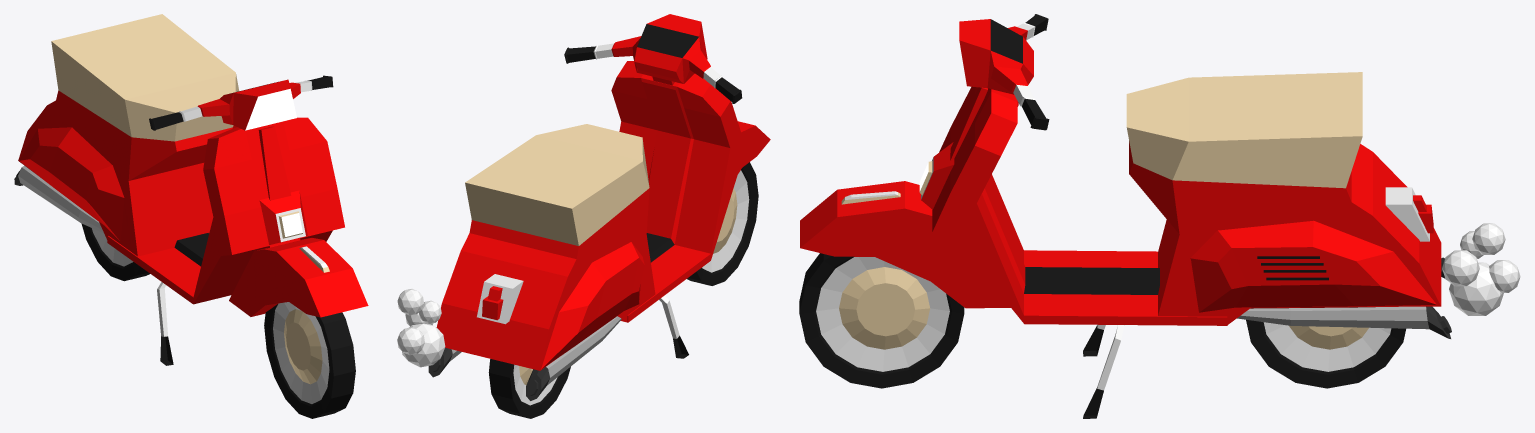
3 renders of one model, left to right at view 1: azimuth 30°, elevation 25°; view 2: azimuth 150°, elevation 25°; view 3: azimuth 270°, elevation 25°, orthographic. The views are drawn at different scales.
Visible parts, largest first — view 1: vespa, Cylinder.001; view 2: vespa, Cylinder.001, Icosphere, Icosphere.004, Icosphere.001, Icosphere.003; view 3: vespa, Cylinder.001, Icosphere, Icosphere.002, Icosphere.001, Cube, Icosphere.004.
Part boxes in pixels (x1=…): vespa: x1=18, y1=14, x2=368, y2=418; Cylinder.001: x1=14, y1=165, x2=103, y2=232; vespa: x1=436, y1=14, x2=770, y2=418; Cylinder.001: x1=428, y1=316, x2=621, y2=400; Icosphere: x1=402, y1=323, x2=445, y2=367; Icosphere.004: x1=397, y1=327, x2=424, y2=355; Icosphere.001: x1=397, y1=288, x2=423, y2=315; Icosphere.003: x1=419, y1=300, x2=441, y2=323; vespa: x1=799, y1=14, x2=1441, y2=418; Cylinder.001: x1=1237, y1=257, x2=1451, y2=338; Icosphere: x1=1449, y1=262, x2=1503, y2=315; Icosphere.002: x1=1442, y1=250, x2=1479, y2=286; Icosphere.001: x1=1472, y1=223, x2=1505, y2=254; Cube: x1=1257, y1=256, x2=1328, y2=280; Icosphere.004: x1=1489, y1=260, x2=1520, y2=292.
Size of what is drawn, in the model's own units: 2.07 by 3.26 by 6.03.
